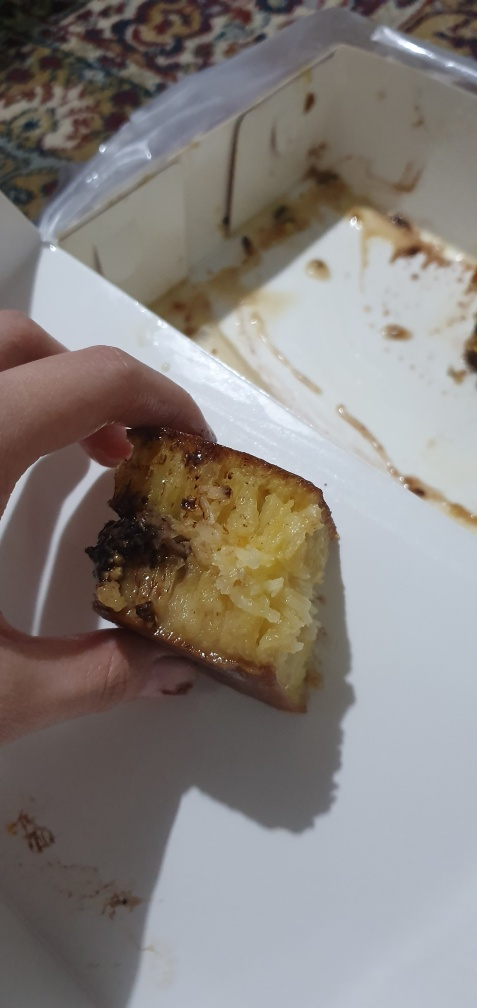martabak manis: (104, 410, 329, 713)
